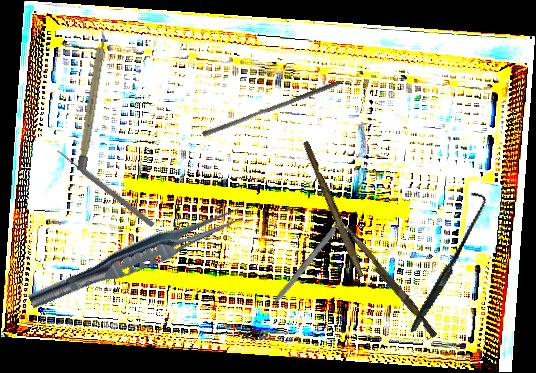Hook Surgical: (371, 189, 521, 333)
Pusher: (335, 219, 441, 339), (201, 74, 341, 143), (55, 147, 156, 229)
Scalpel Handle: (299, 140, 369, 278), (270, 215, 348, 308), (77, 30, 108, 171)
Tissue Forceps: (25, 197, 247, 319)
